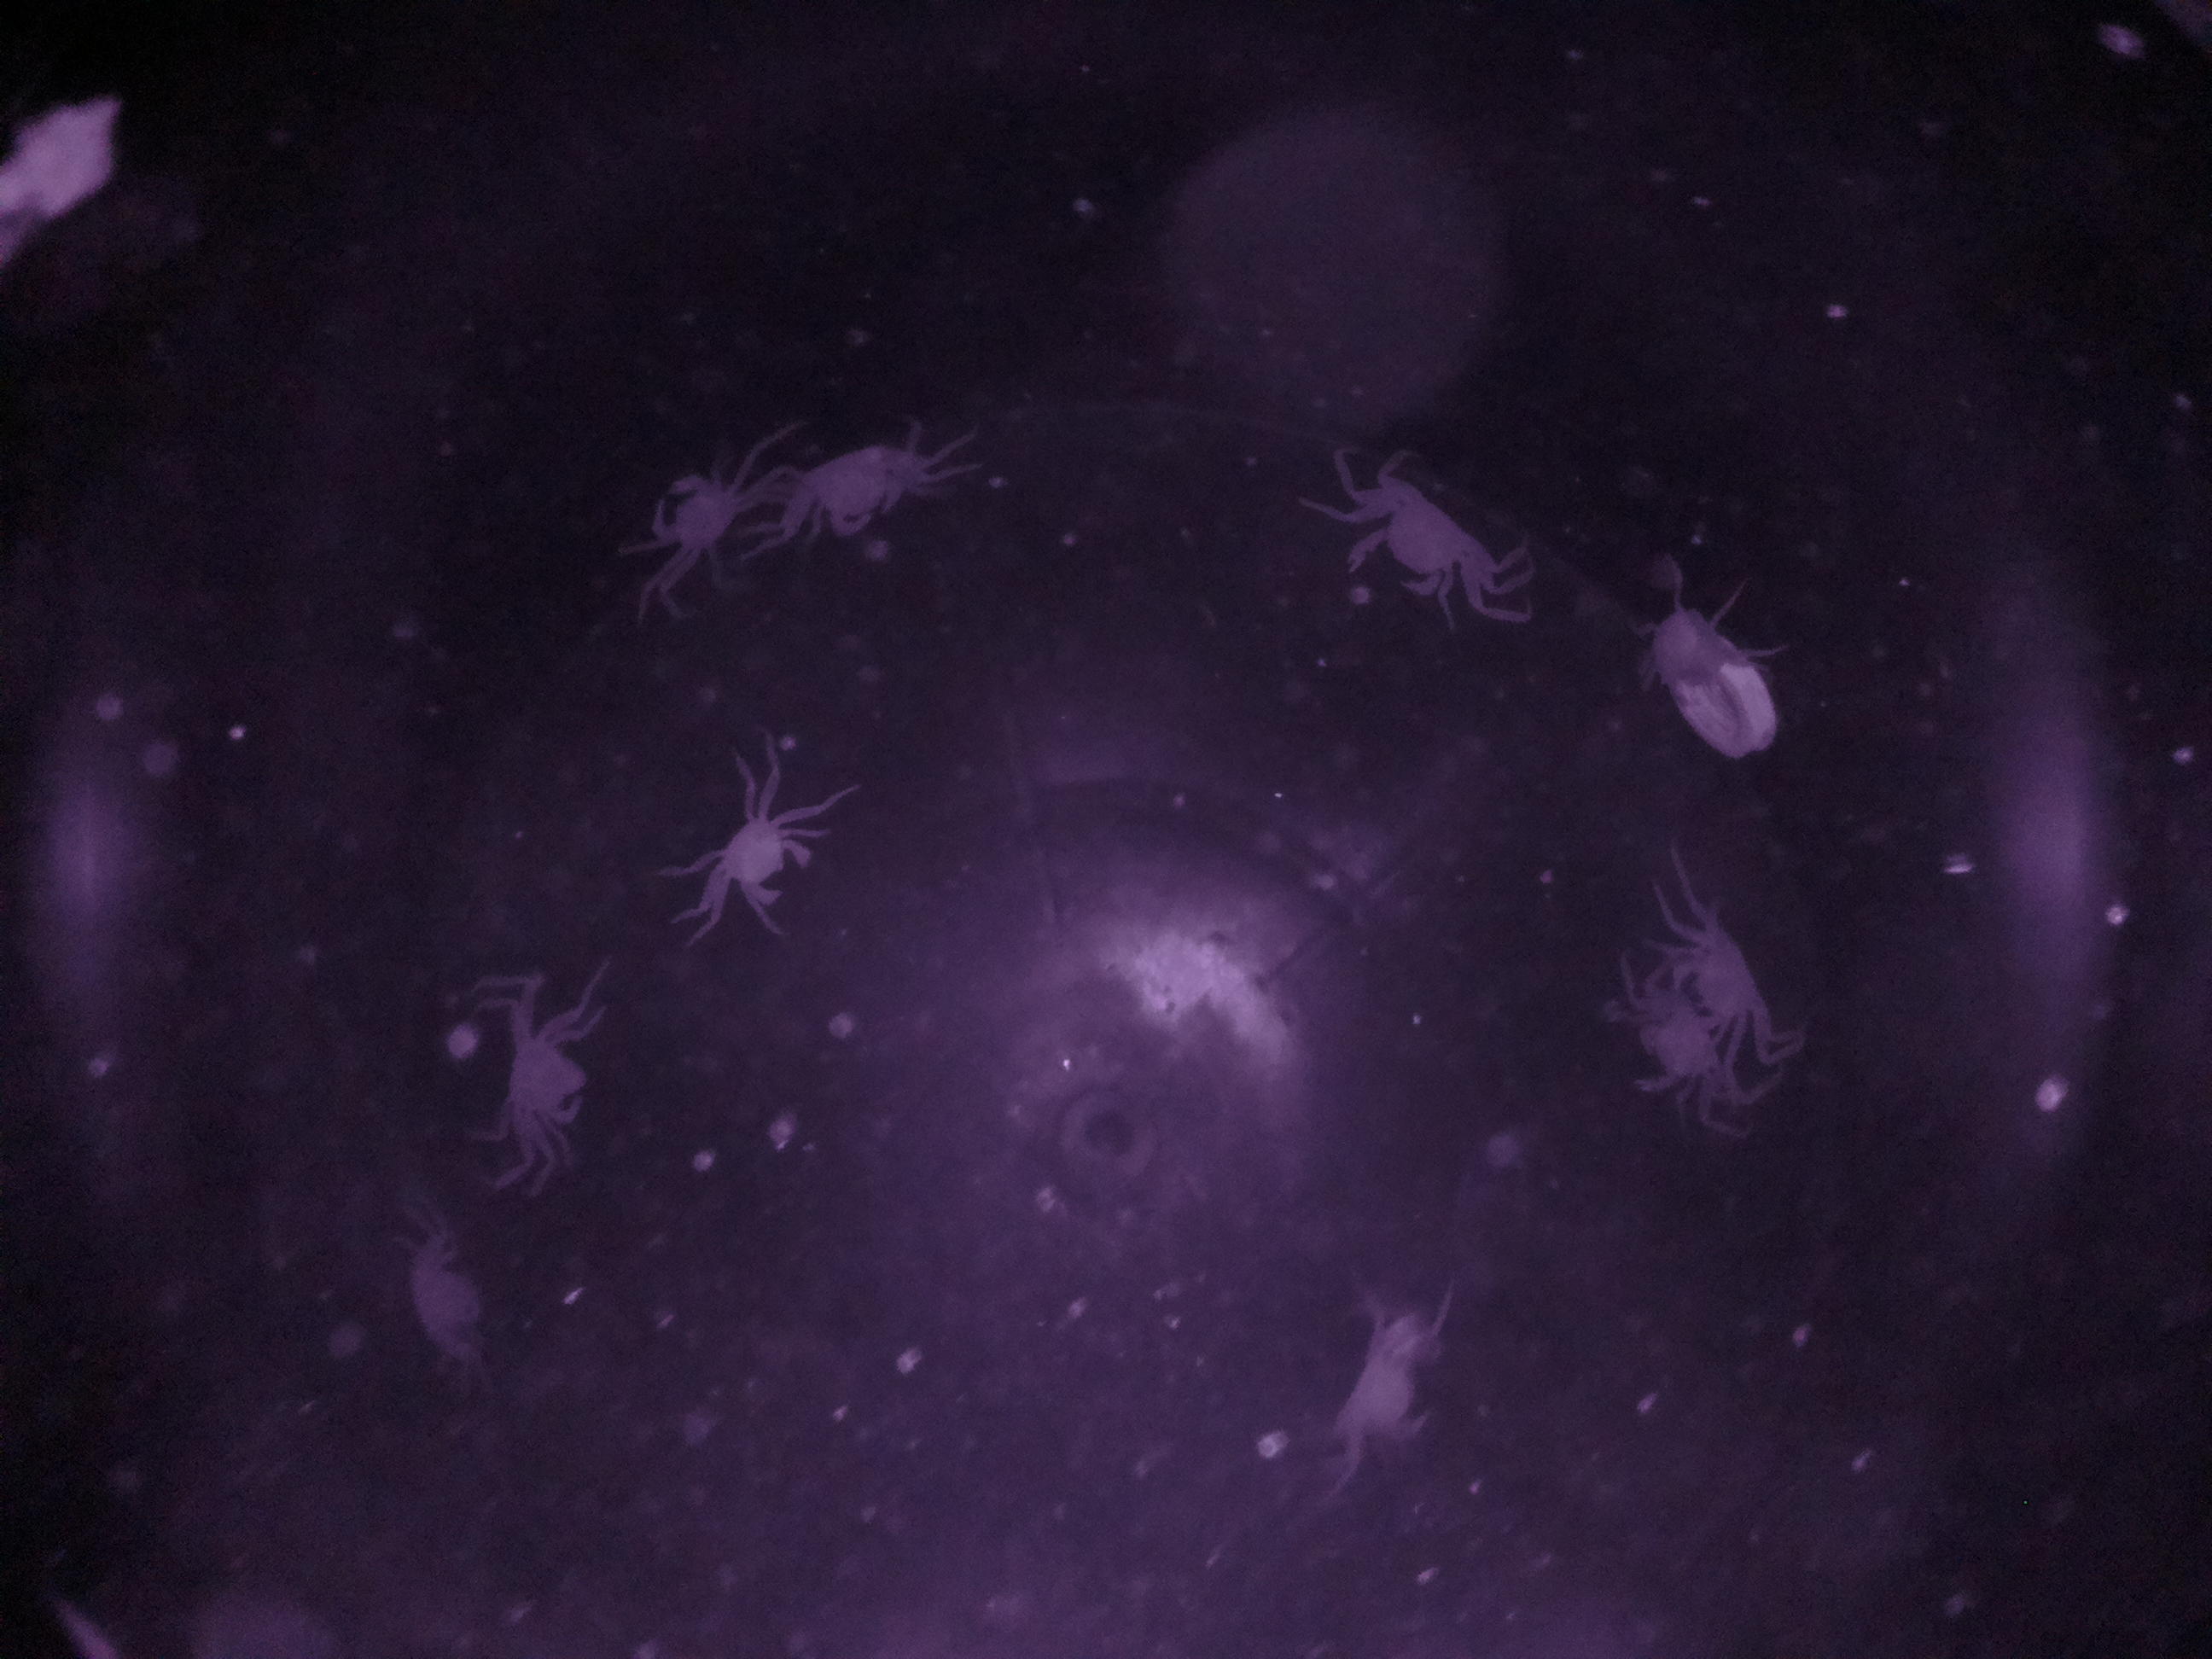Crab: (759, 387, 960, 580), (467, 962, 624, 1178), (1325, 458, 1507, 638), (690, 765, 838, 948), (617, 450, 766, 613), (1669, 910, 1804, 1054)
